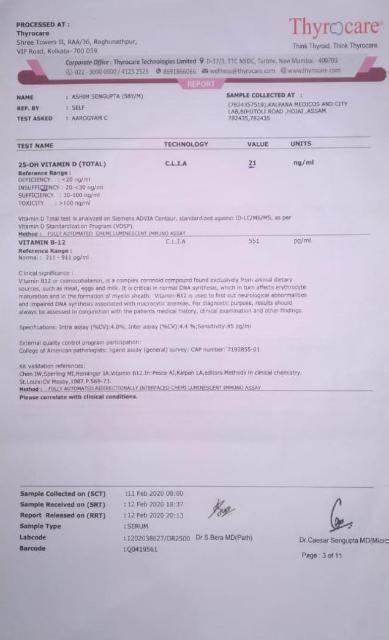Clinical_Conditions: (17, 269, 313, 319)
Name: (70, 91, 143, 100)
Ref_By: (70, 102, 89, 111)
Technology: (163, 157, 189, 169), (164, 237, 188, 248)
Test_Asked: (71, 114, 111, 123)
Test_Name: (17, 157, 110, 209), (18, 237, 93, 263)
Unit: (292, 157, 316, 170), (292, 236, 314, 248)
Value: (247, 236, 263, 246), (247, 158, 260, 170)
